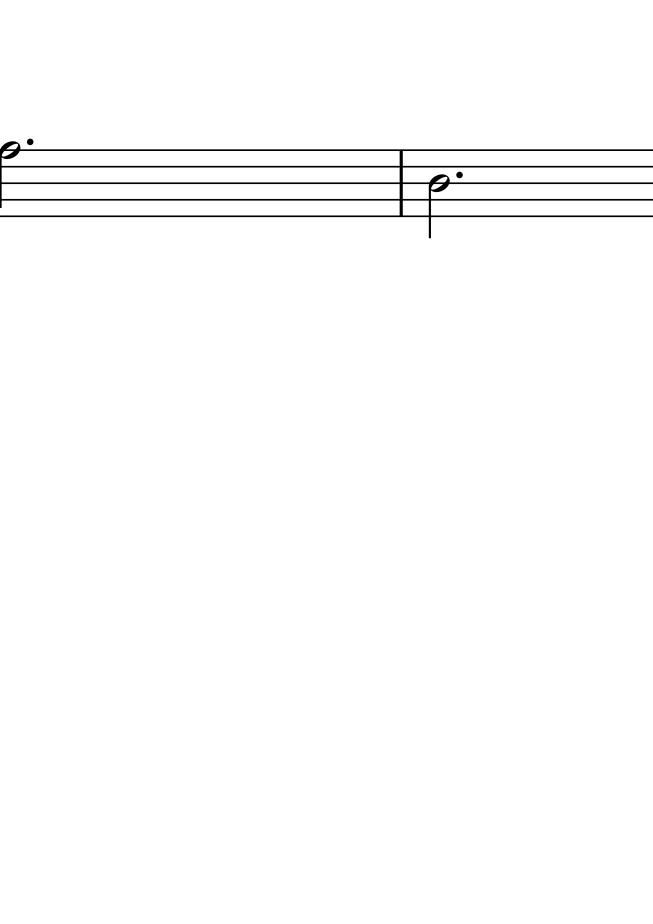2_4: (426, 146, 452, 237)
Single_barline: (394, 147, 410, 217)
dot: (452, 164, 469, 184), (23, 134, 37, 152), (453, 169, 465, 182), (25, 136, 34, 146)
